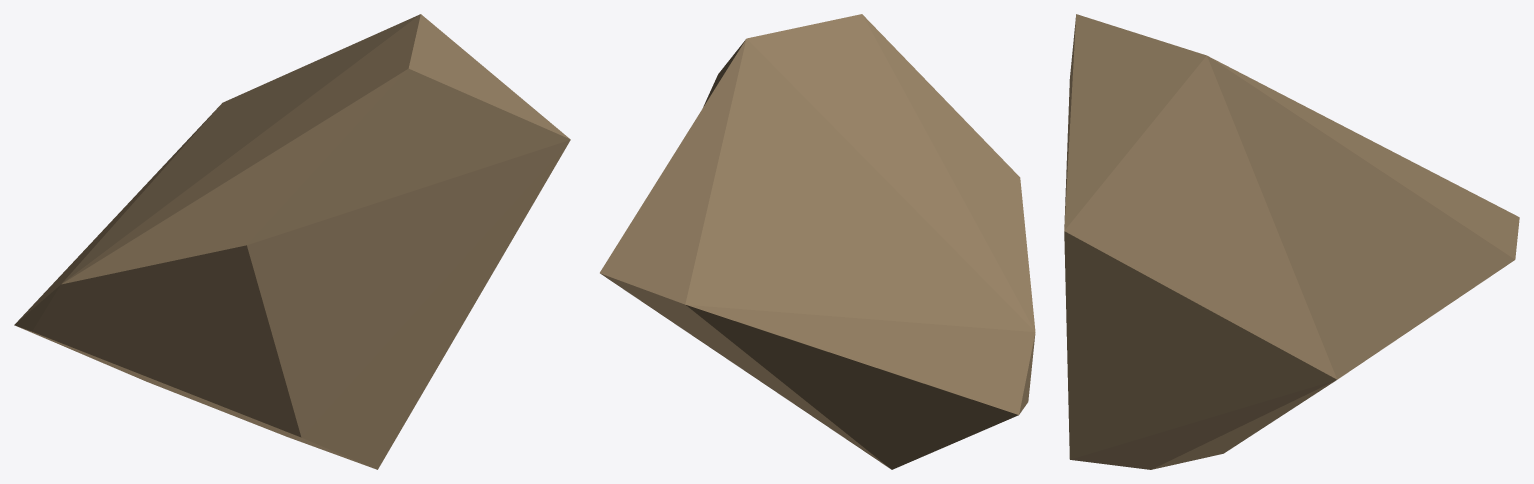
The model's file is Rock09.fbx.
3 views of the same model, side by side, from view 1: azimuth 30°, elevation 25°; view 2: azimuth 150°, elevation 25°; view 3: azimuth 270°, elevation 25° (orthographic). The views are drawn at different scales.
Parts seen in each view (by area): view 1: Rock09; view 2: Rock09; view 3: Rock09.
Part boxes in pixels (<box>): Rock09: <box>14,14,570,469</box>; Rock09: <box>600,14,1035,469</box>; Rock09: <box>1064,14,1519,469</box>.
Size of the model in its own units: 9.59 by 8.36 by 7.27.
